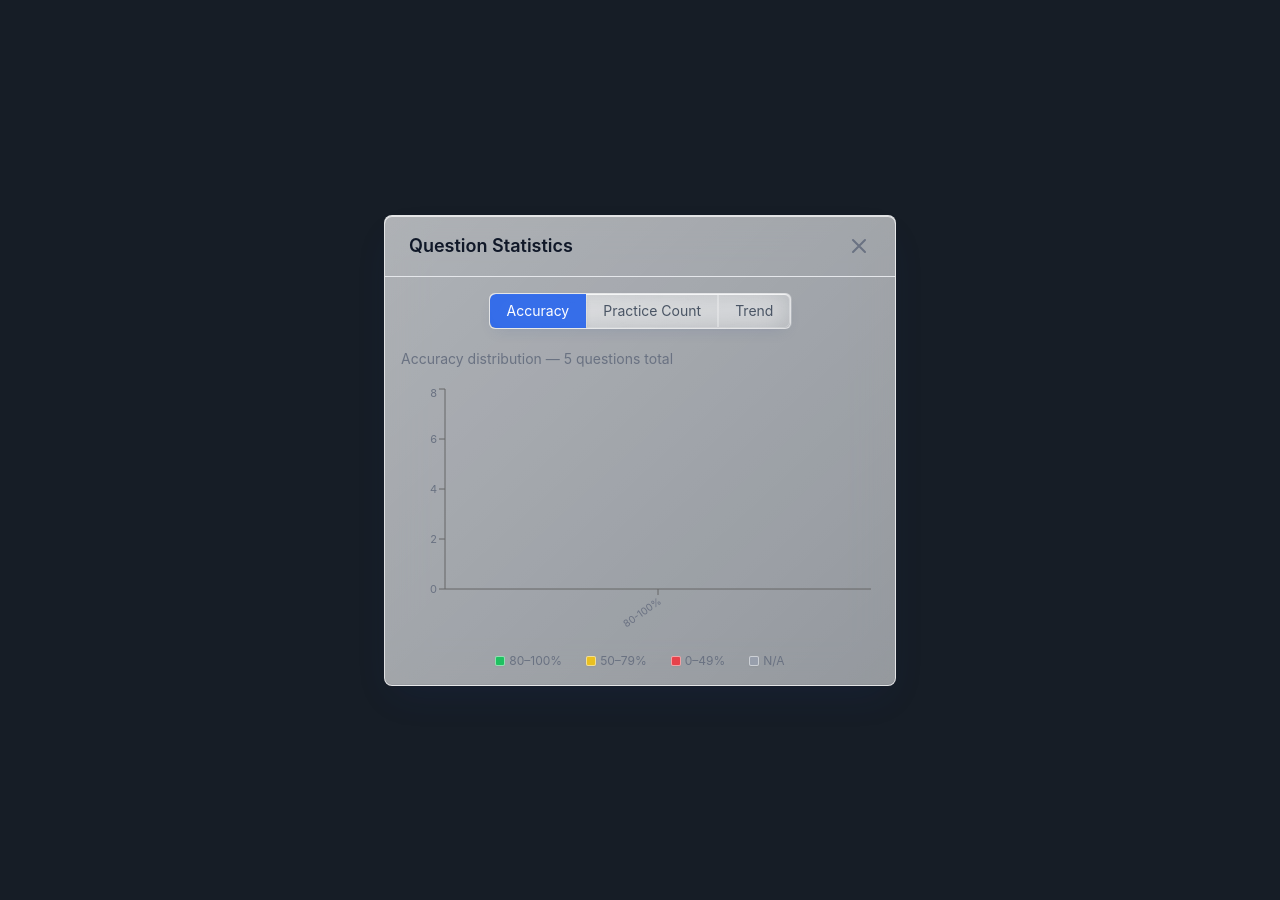
Scenario: QuestionStatsModal › switches back to the accuracy tab after viewing the trend tab
Expected: the text "Accuracy distribution — 5 questions total" is shown, [401,350,673,366]
Click the button "Trend": x=754, y=310 [718,294,790,328]
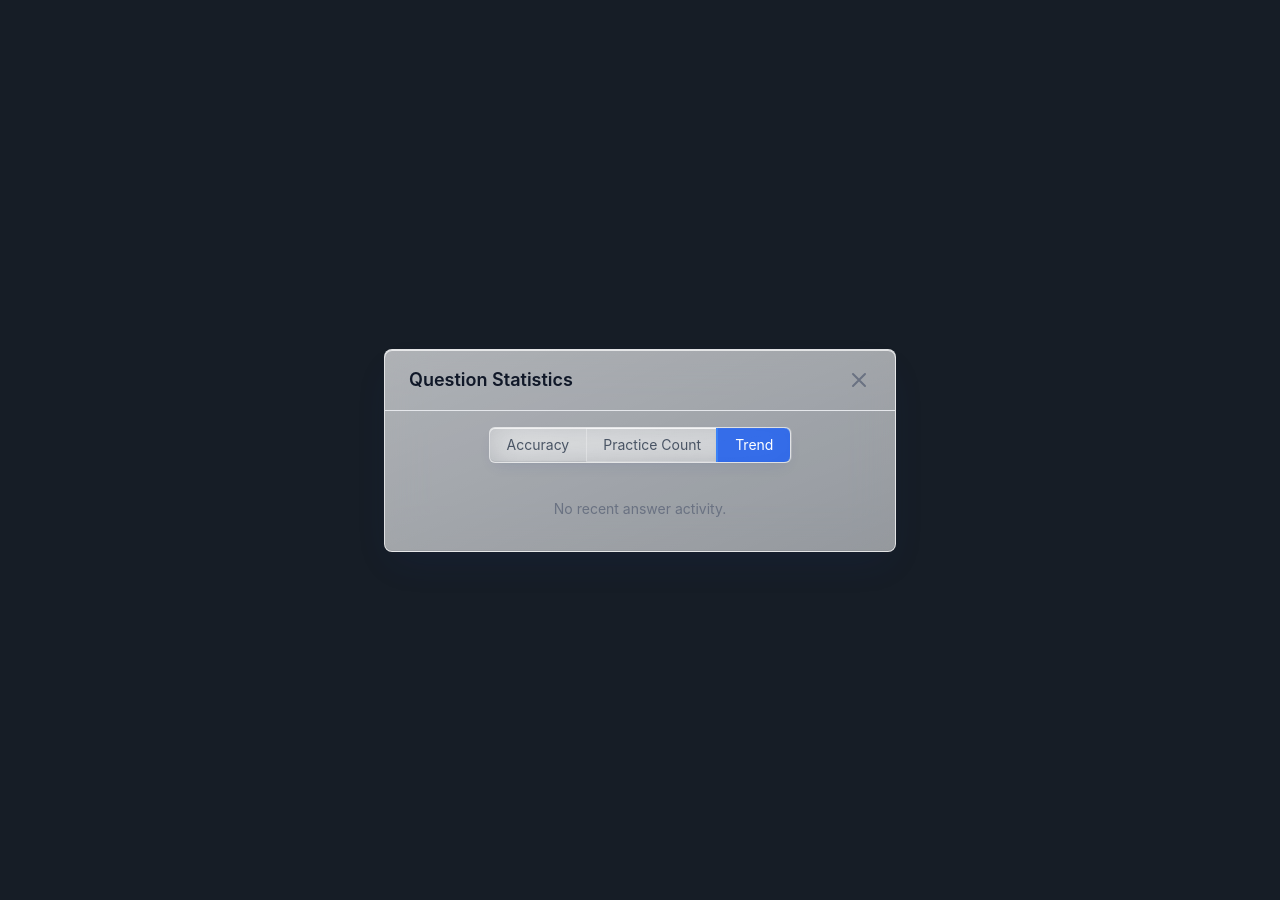
Expected: the text "Accuracy distribution — 5 questions total" is gone
Click the button "Accuracy": x=538, y=444 [490,428,586,462]
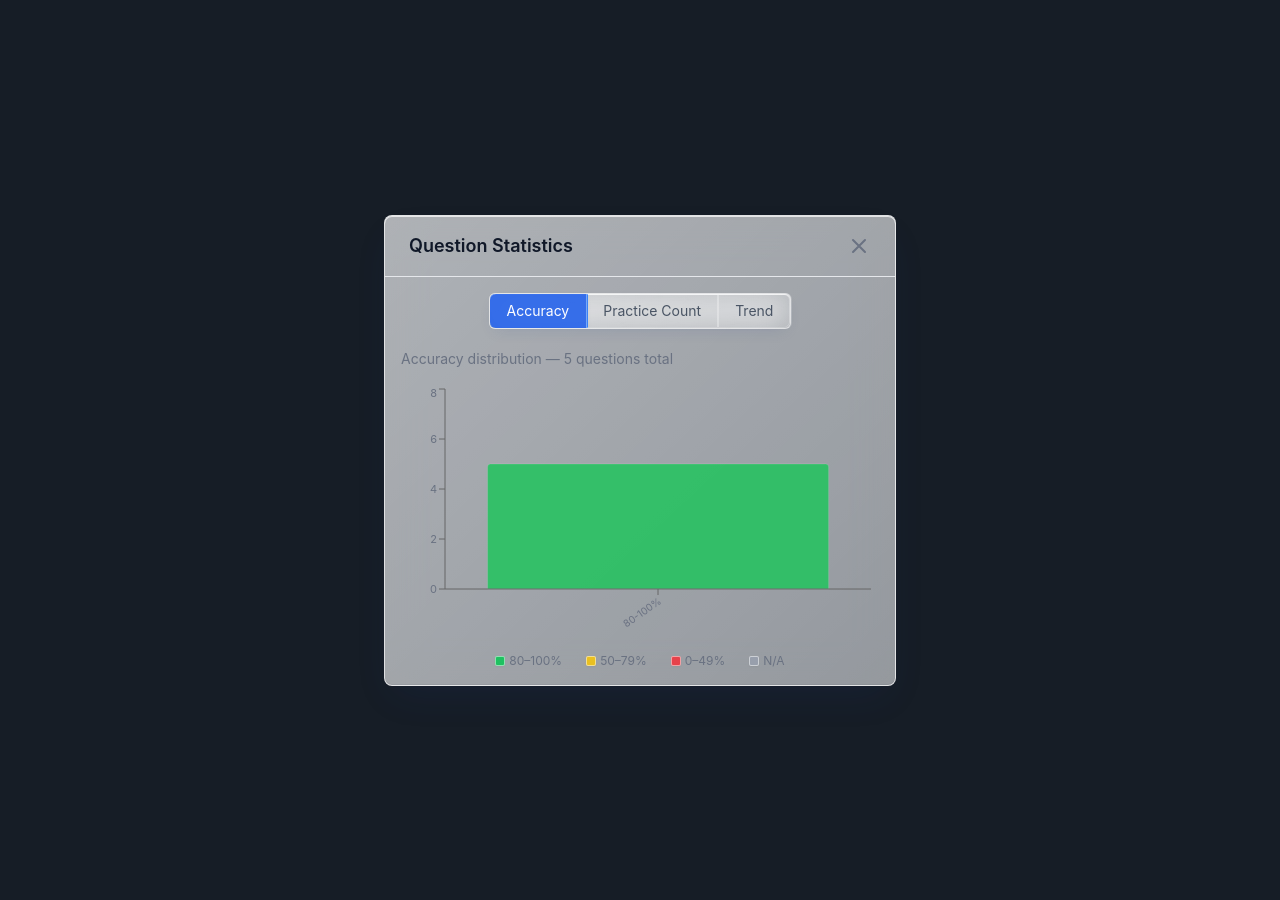
Expected: the text "Accuracy distribution — 5 questions total" is shown, [401,350,673,366]
